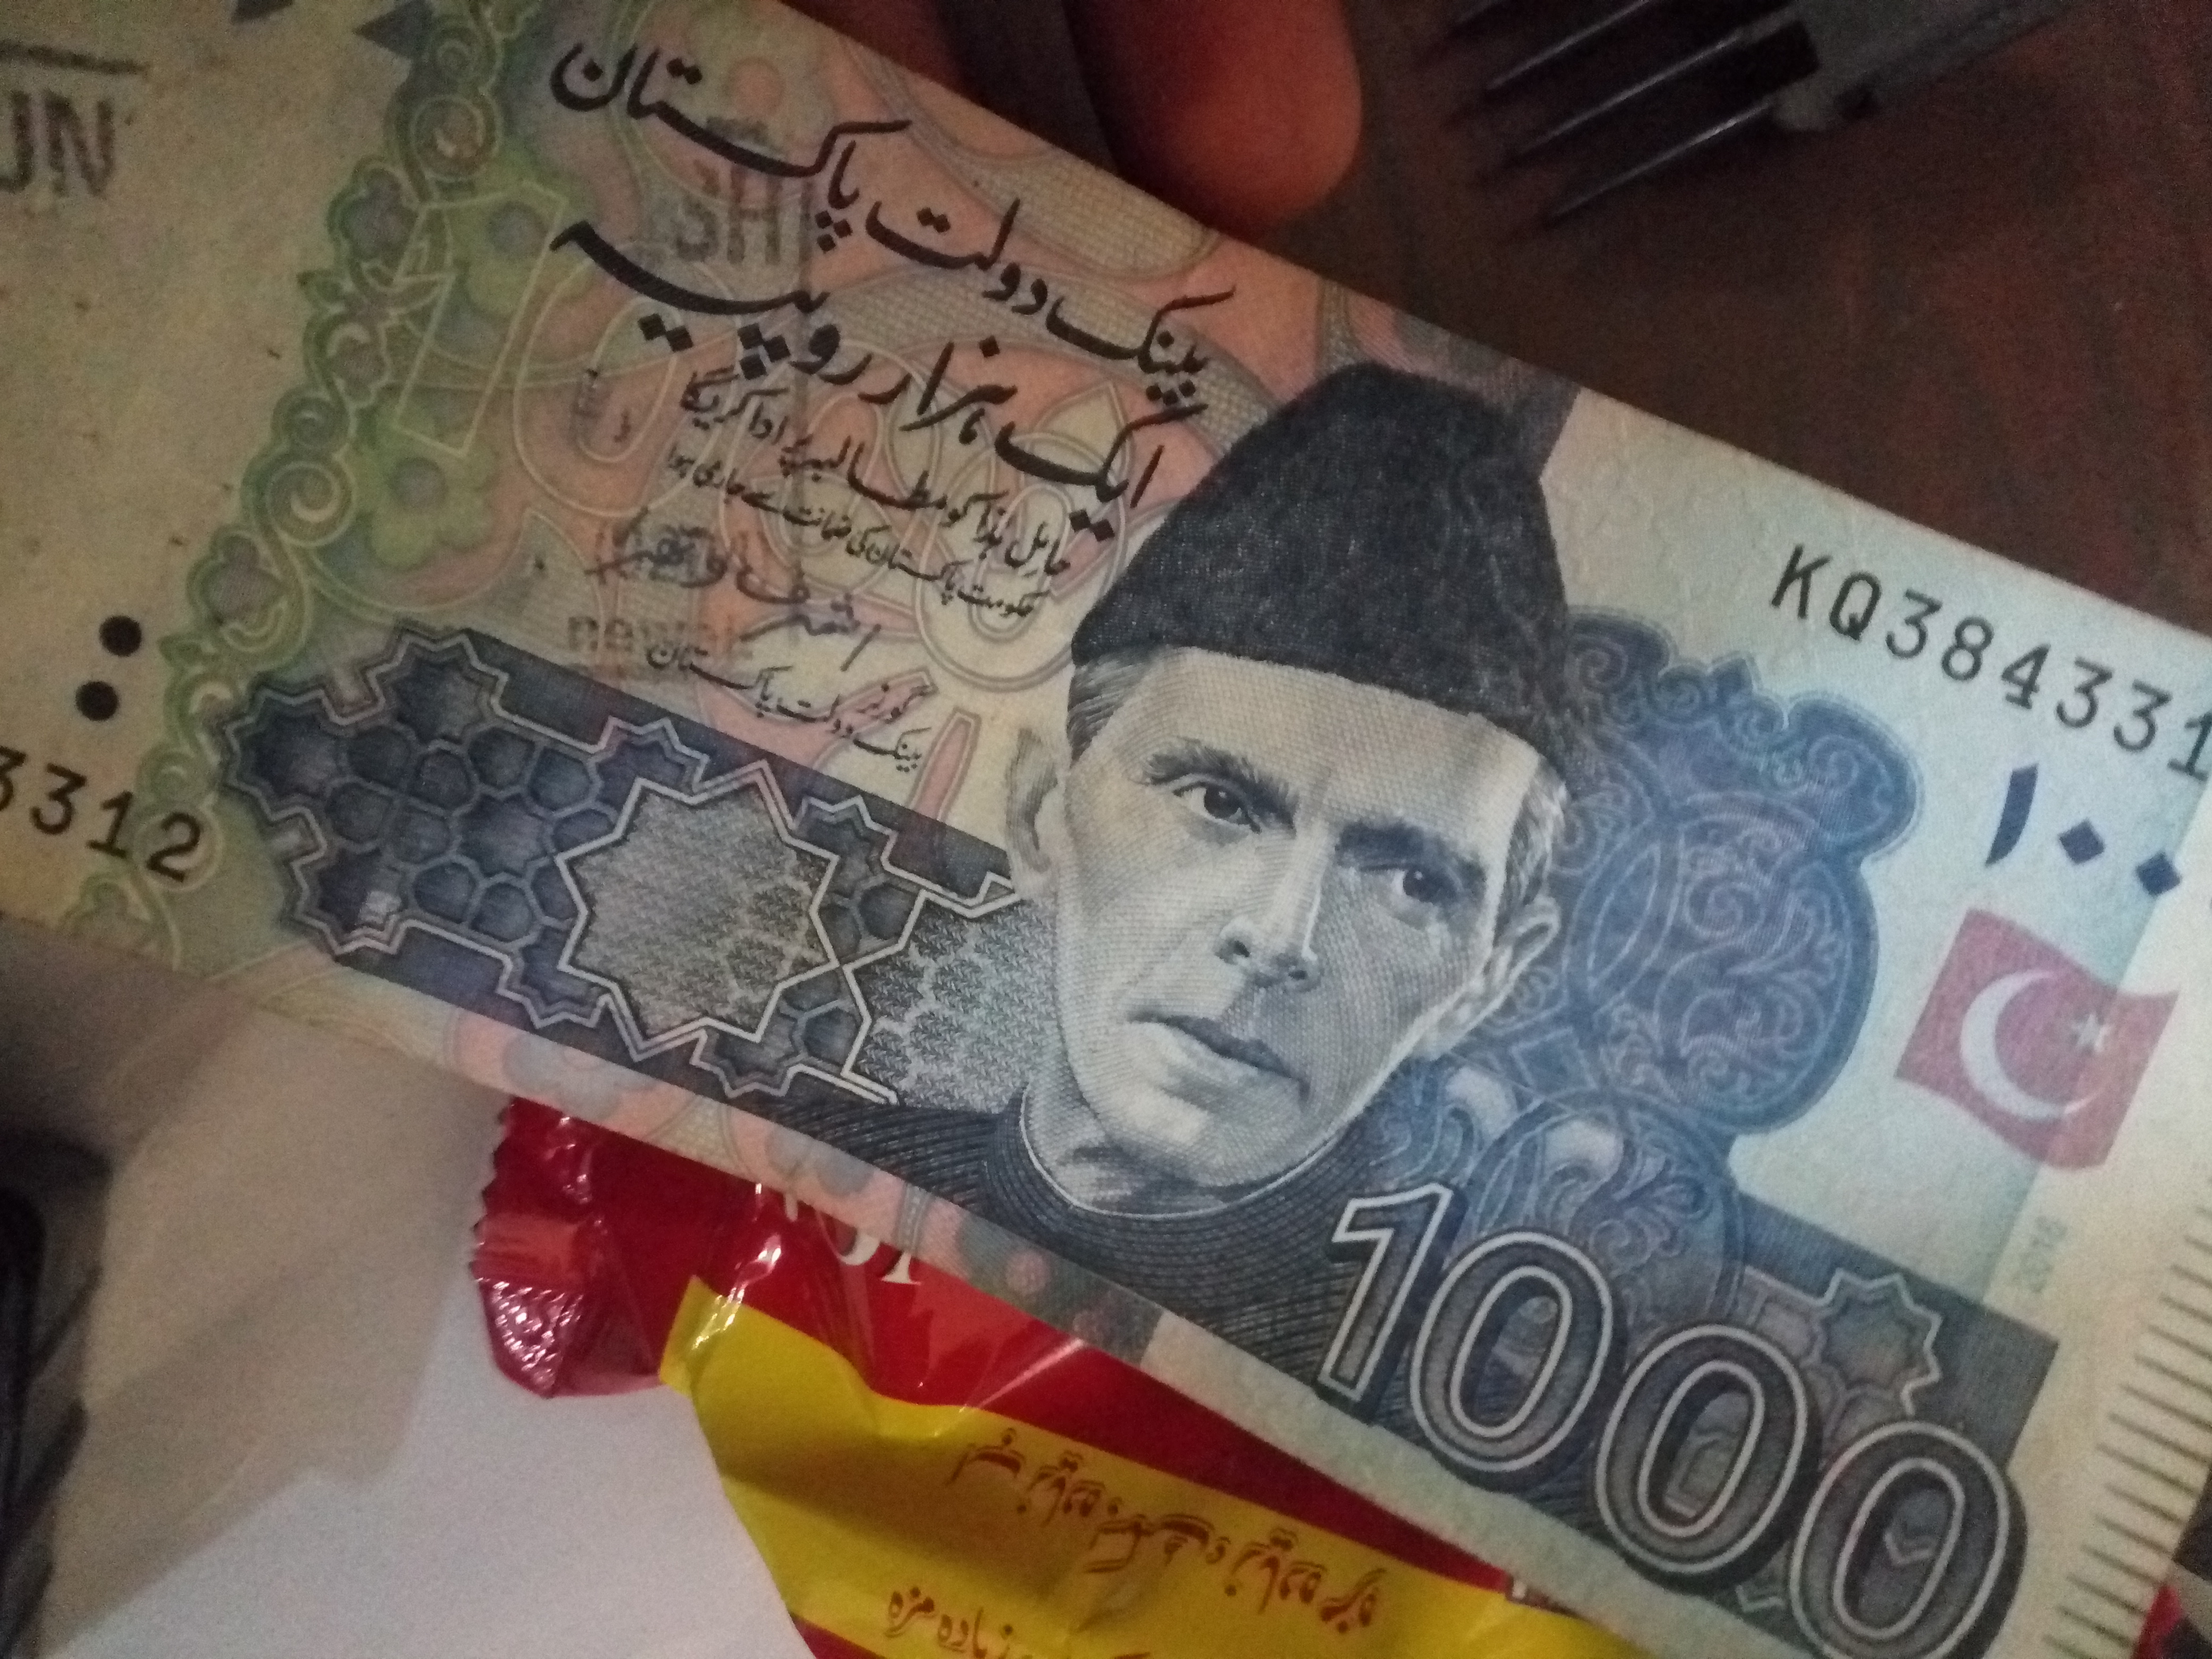1000 rupee: (57, 38, 2182, 1659)
